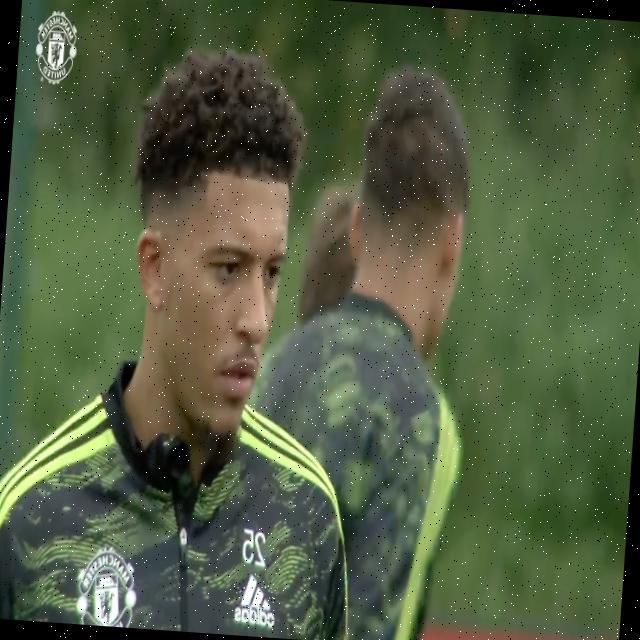Adidas: (229, 570, 277, 629)
